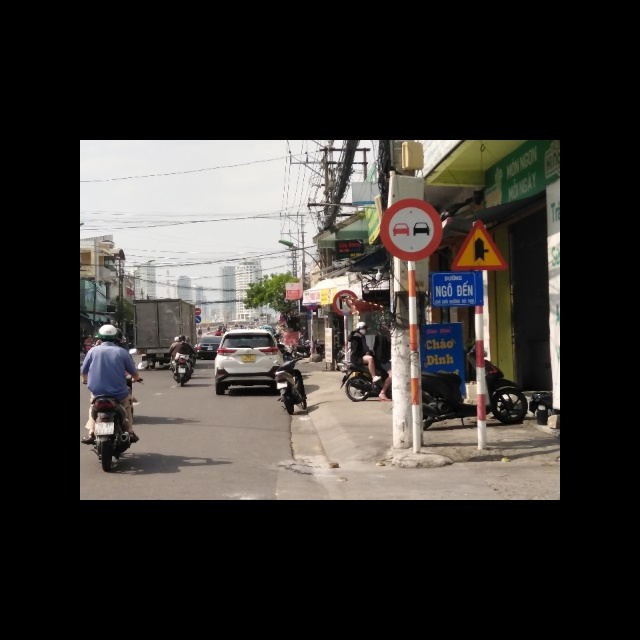Cấm vượt: (380, 198, 443, 262)
Giao nhau với đường không ưu tiên: (449, 218, 507, 271)
